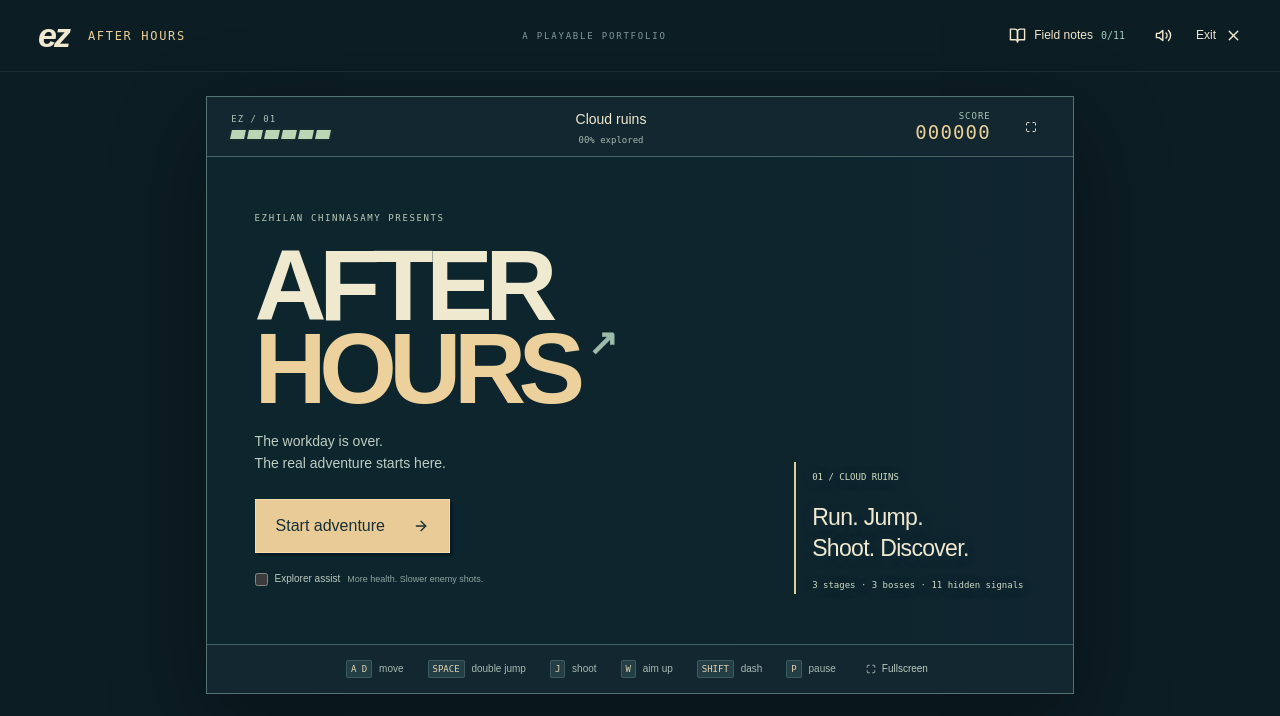
Test: start, keyboard pause, and field notes return to live play
Click the button "Start adventure" at x=352, y=526, box [255,499,450,553]
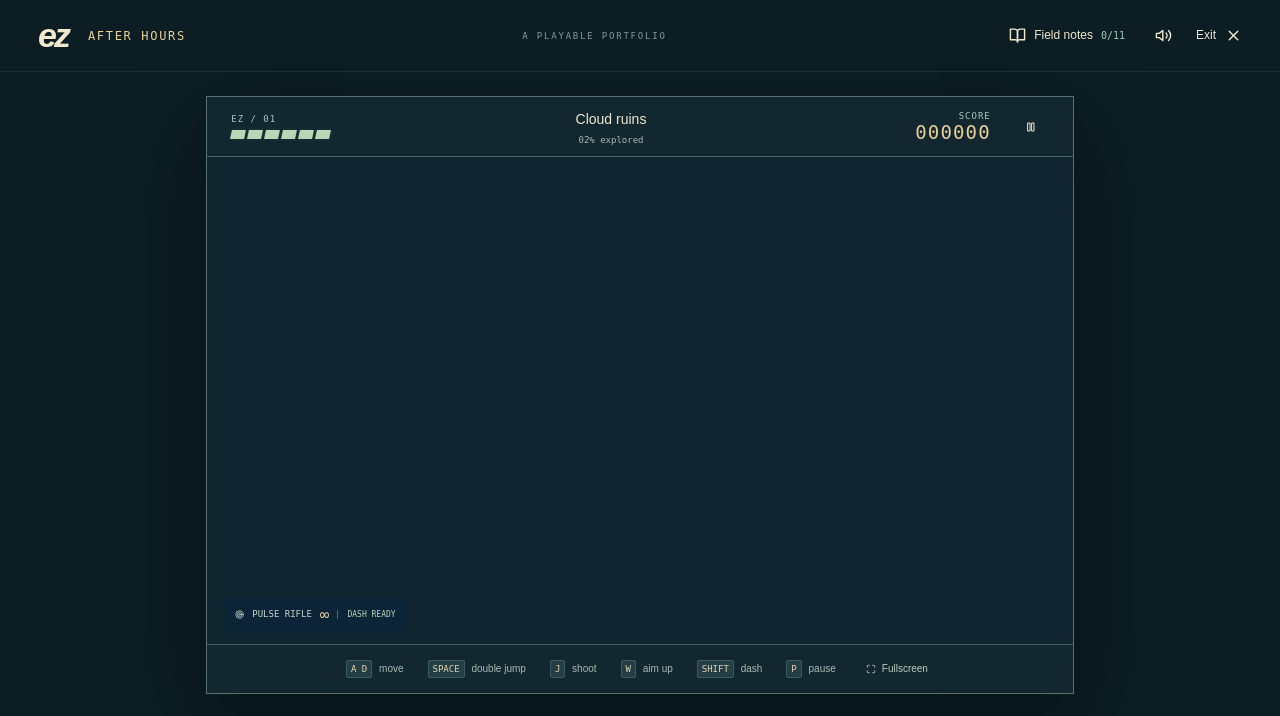
Check: the button named "Pause game" is shown, box [1013,106,1049,146]
Press KeyP
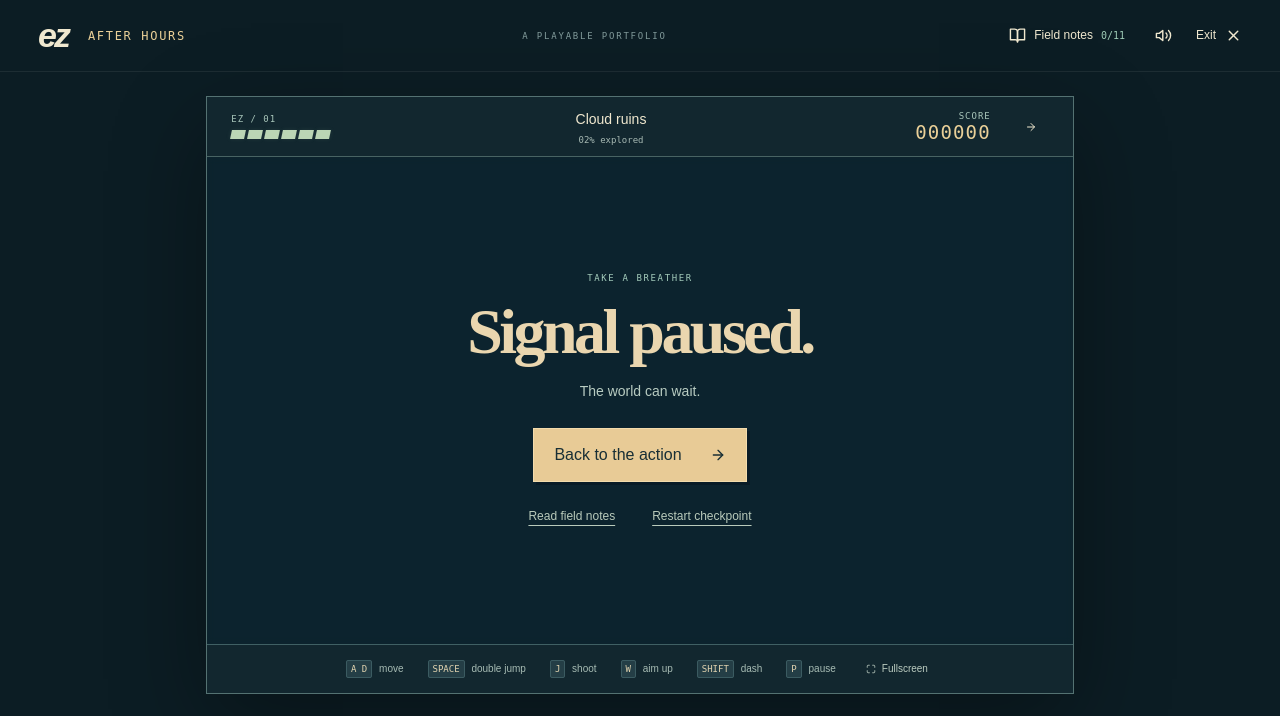
Check: the heading "Signal paused." is shown, box [467,295,813,368]
Click the button "Back to the action" at x=640, y=455, box [533,428,747,482]
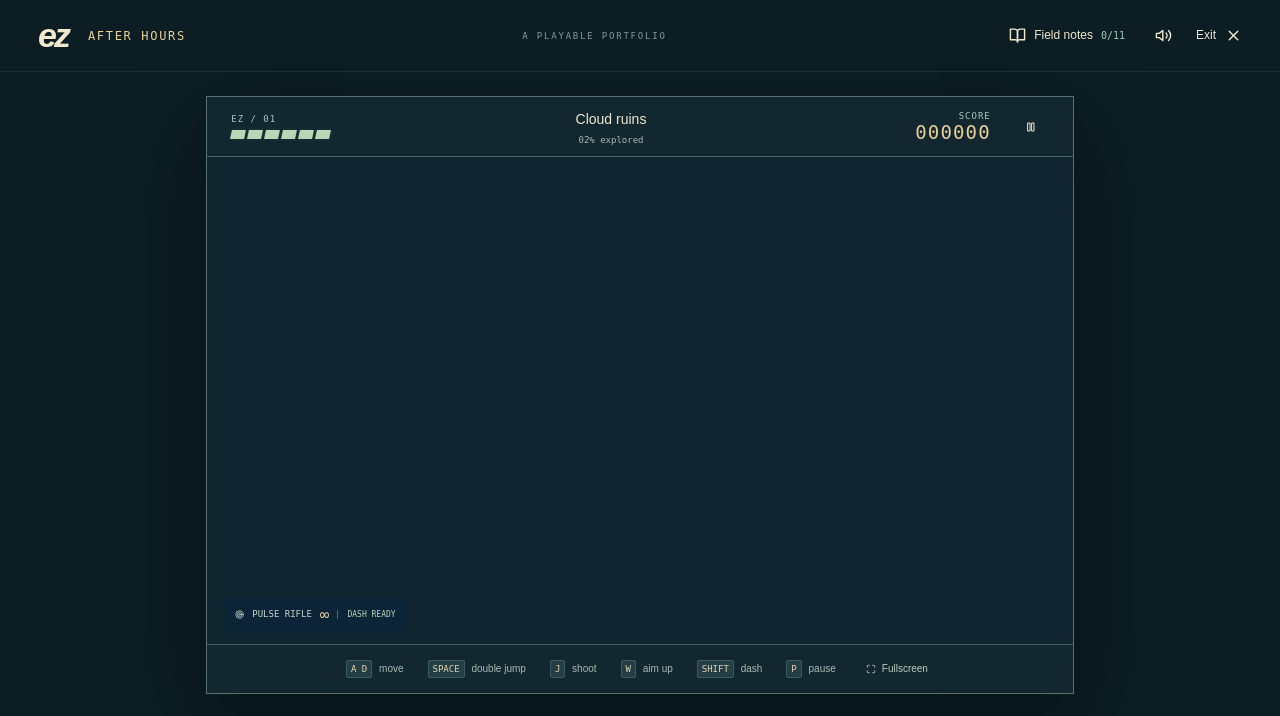
Press KeyE
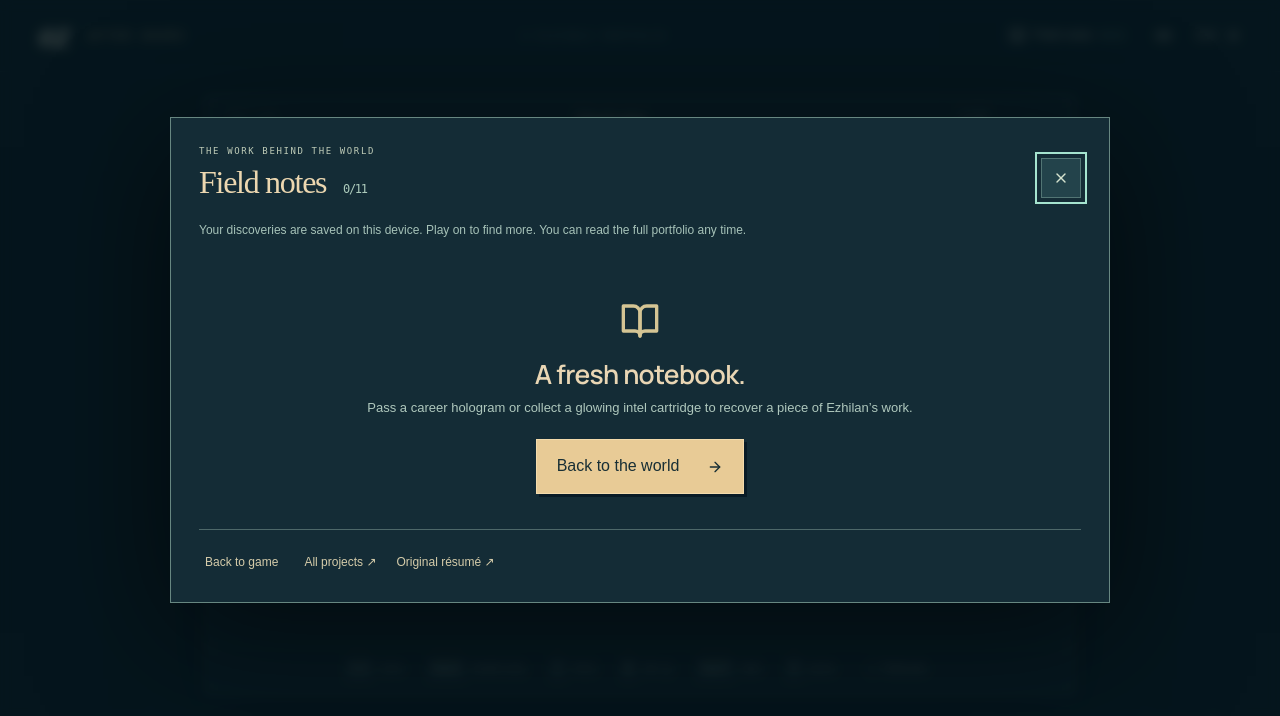
Check: the dialog named "Recovered field notes" is shown, box [170,117,1110,603]
Click the button named "Close field notes" at x=1061, y=178, box [1041,158,1081,198]
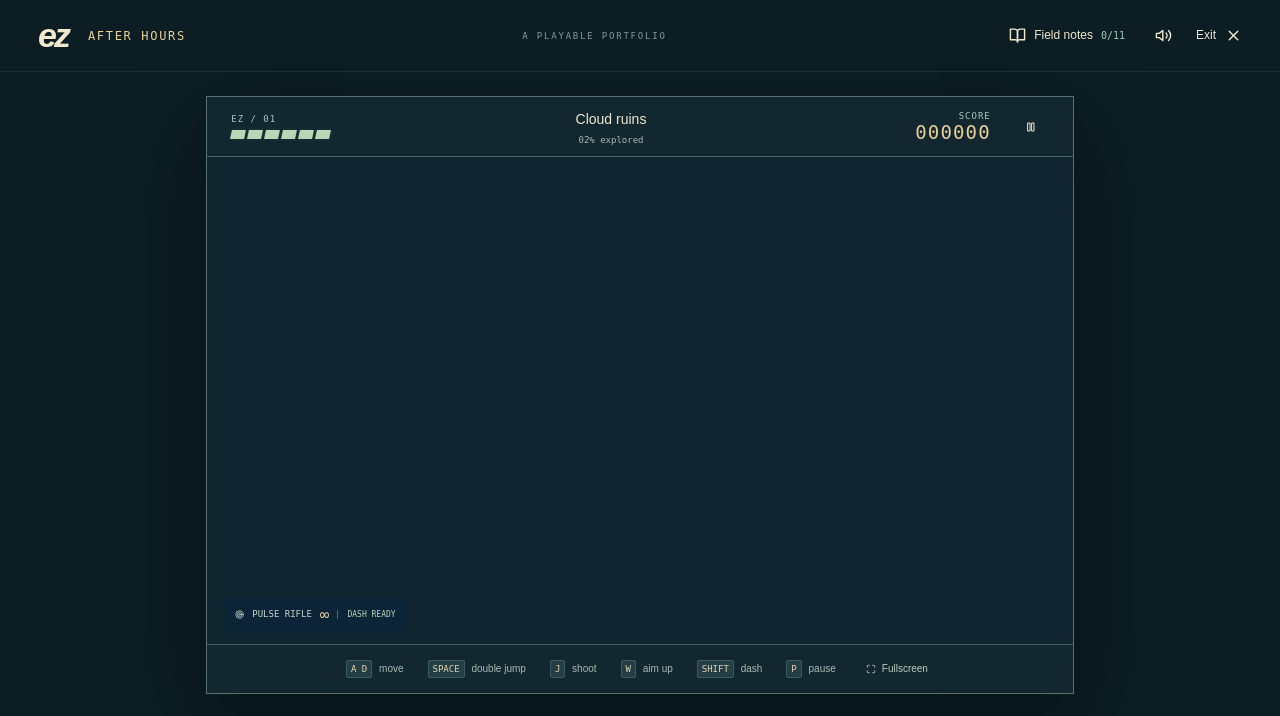
Check: the button named "Pause game" is shown, box [1013,106,1049,146]
